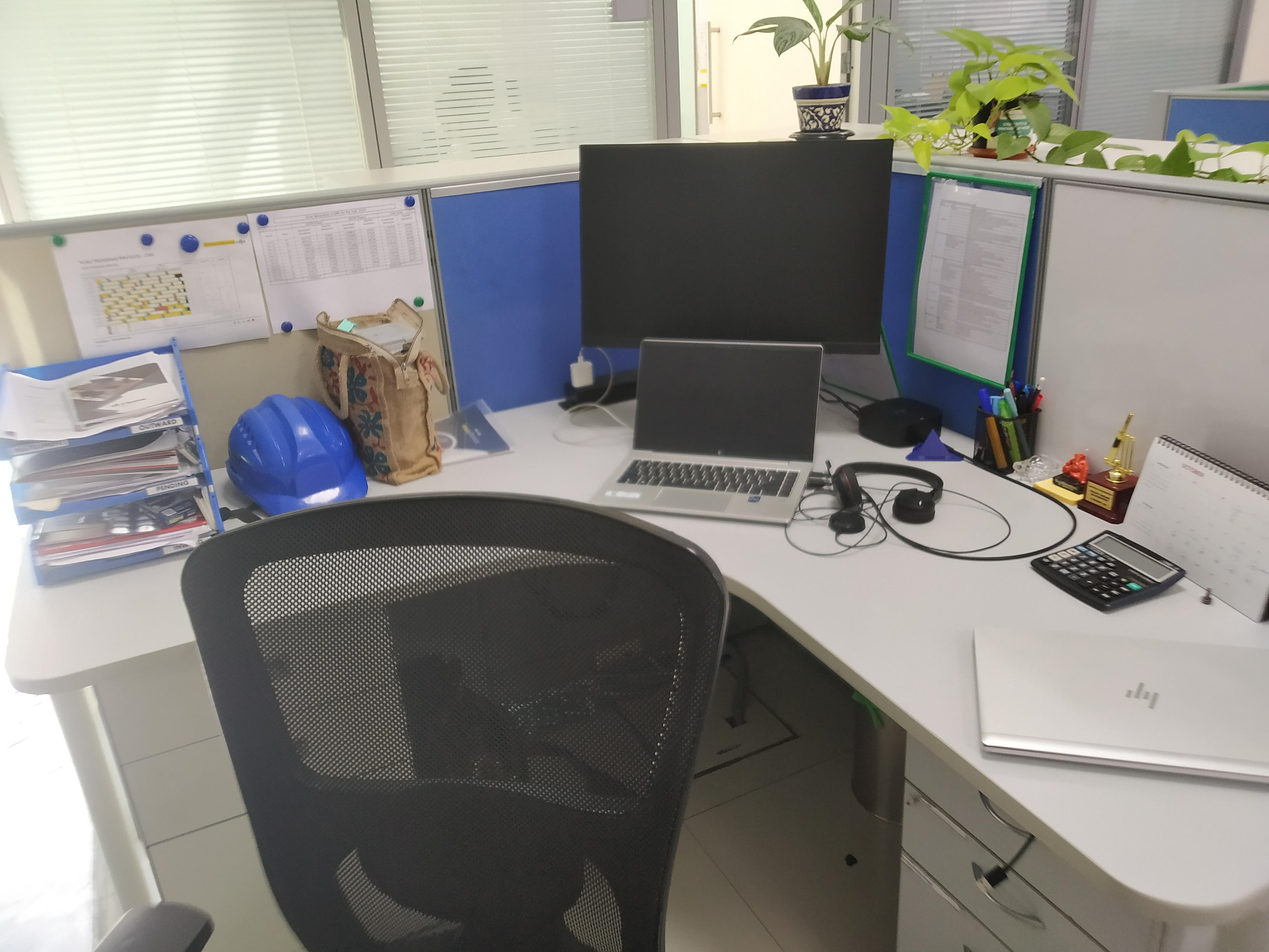book: (60, 351, 185, 439), (435, 395, 521, 470)
calender: (1117, 429, 1268, 628)
filetray: (0, 332, 232, 593)
headphone: (822, 454, 944, 526)
laptop: (969, 623, 1269, 794), (583, 333, 827, 529)
page: (898, 165, 1045, 396), (49, 211, 274, 356), (251, 187, 438, 336)
